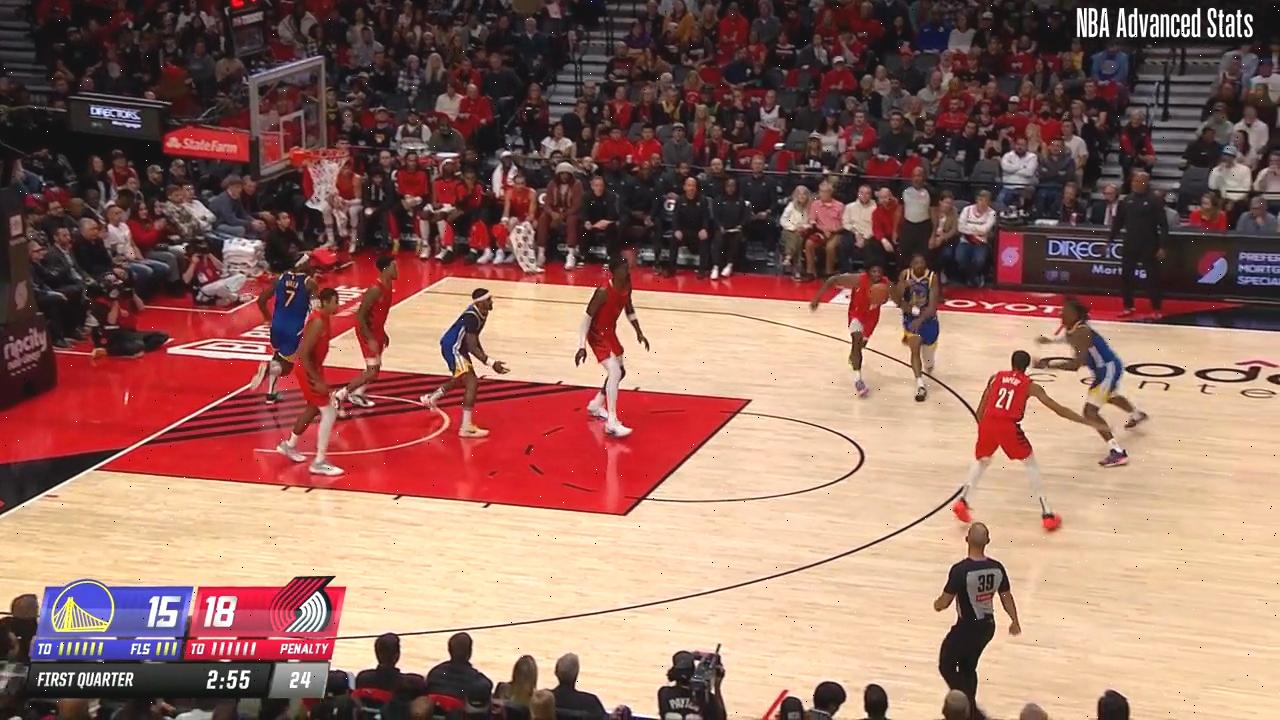basketball: (866, 280, 893, 309)
